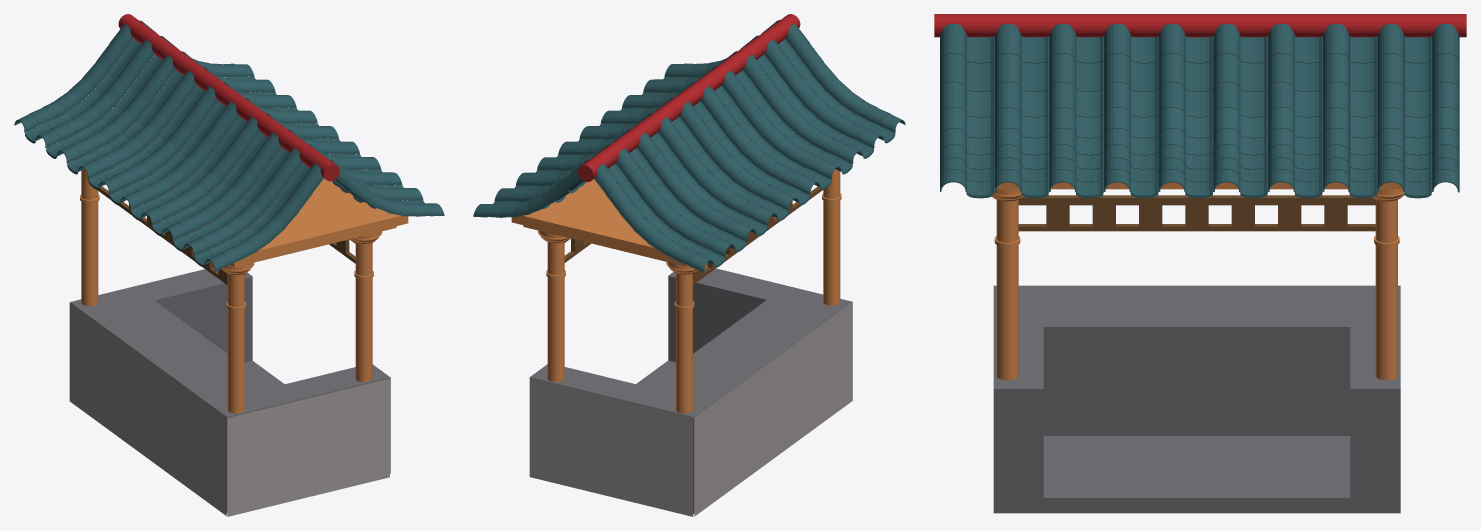
Rendered from Booth1.2.fbx.
The picture shows the model from 3 angles, left to right: view 1: azimuth 30°, elevation 25°; view 2: azimuth 150°, elevation 25°; view 3: azimuth 270°, elevation 25°; orthographic projection. The views are drawn at different scales.
Parts seen in each view (by area): view 1: Cylinder.001, Cube.005, Plane.002, Plane, Cylinder, Cube.001, Cylinder.002, Cube.003; view 2: Cylinder.001, Plane.001, Cube.005, Plane, Cylinder, Cube.001, Cylinder.002, Cube.003; view 3: Cube.005, Cylinder.001, Cylinder.002, Cube.002, Cylinder, Cube.001.
Part boxes in pixels (bbox=[...]): Cylinder.001: bbox=[14, 20, 444, 271]; Cube.005: bbox=[70, 269, 390, 512]; Plane.002: bbox=[227, 378, 389, 516]; Plane: bbox=[69, 303, 226, 515]; Cylinder: bbox=[76, 159, 382, 413]; Cube.001: bbox=[79, 89, 408, 267]; Cylinder.002: bbox=[118, 14, 339, 181]; Cube.003: bbox=[98, 186, 244, 293]; Cylinder.001: bbox=[473, 20, 905, 272]; Plane.001: bbox=[529, 377, 693, 516]; Cube.005: bbox=[529, 268, 851, 513]; Plane: bbox=[694, 302, 851, 516]; Cylinder: bbox=[537, 169, 841, 413]; Cube.001: bbox=[511, 179, 687, 266]; Cylinder.002: bbox=[578, 14, 800, 182]; Cube.003: bbox=[693, 186, 822, 284]; Cube.005: bbox=[993, 285, 1400, 513]; Cylinder.001: bbox=[940, 24, 1459, 198]; Cylinder.002: bbox=[934, 14, 1466, 37]; Cube.002: bbox=[1018, 195, 1375, 231]; Cylinder: bbox=[992, 189, 1404, 380]; Cube.001: bbox=[996, 182, 1402, 189].
Bounding box in the file's own units: 971 × 1406 × 1503.
